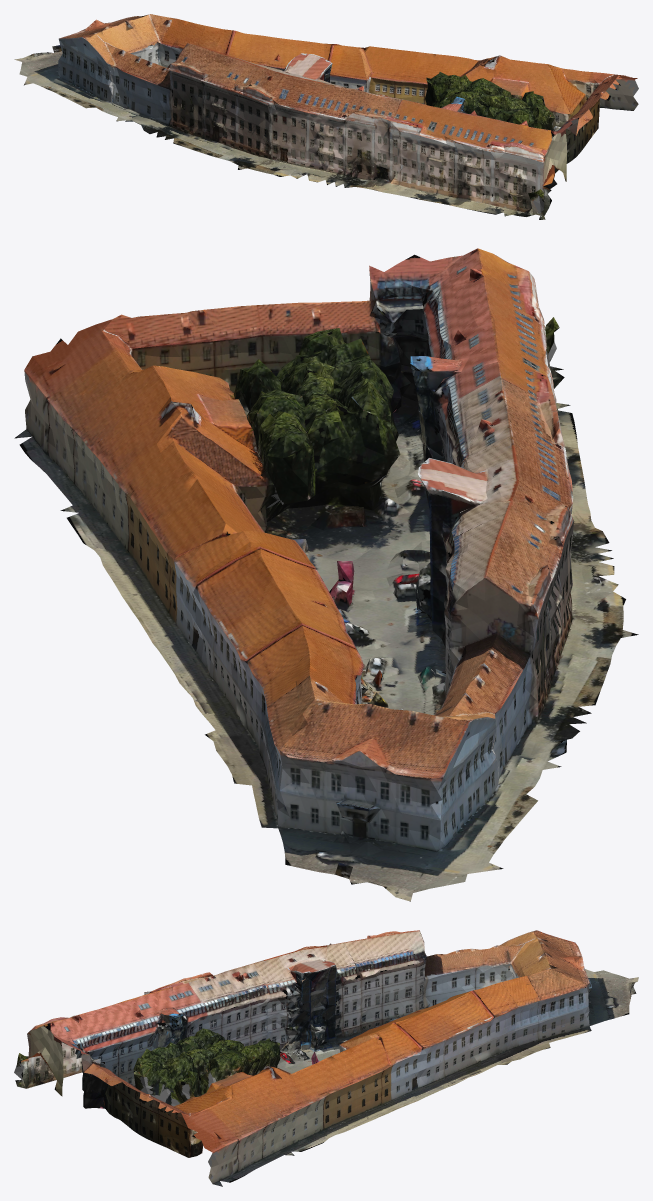
File: VGTU2.gltf
3 renders of one model, top to bottom at view 1: azimuth 30°, elevation 25°; view 2: azimuth 150°, elevation 25°; view 3: azimuth 270°, elevation 25°, orthographic. The views are drawn at different scales.
Parts seen in each view (by area): view 1: VGTU2; view 2: VGTU2; view 3: VGTU2.
Part boxes in pixels (box(x1,y1,x2,y2)): VGTU2: box(14, 14, 638, 219); VGTU2: box(14, 248, 638, 901); VGTU2: box(14, 930, 638, 1186).
Size of the model in its own units: 5.01 by 0.9165 by 6.06.
1 material, 1 textured.
